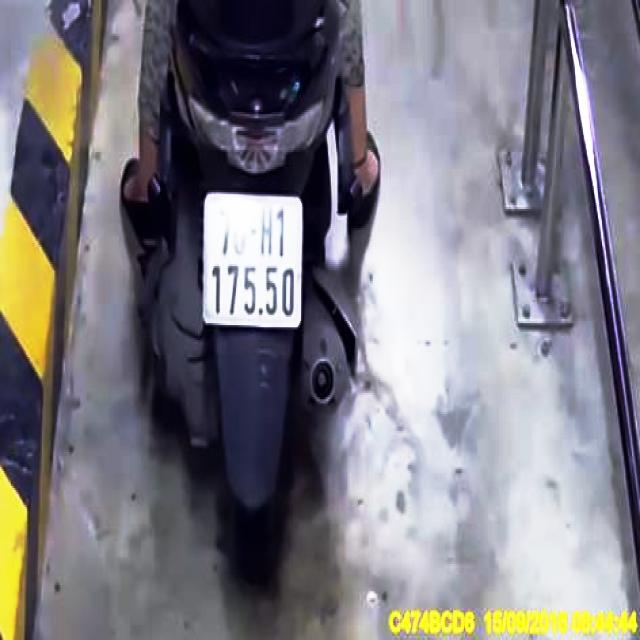license_plate: (202, 195, 302, 326)
